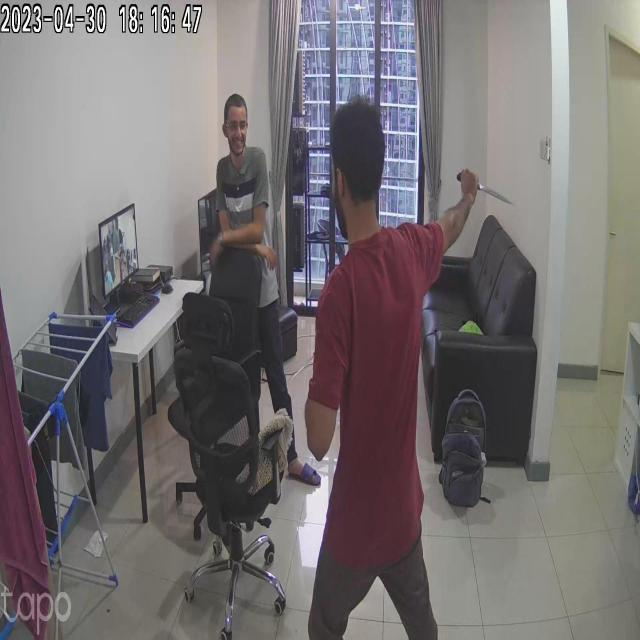Knife: (456, 164, 522, 216)
